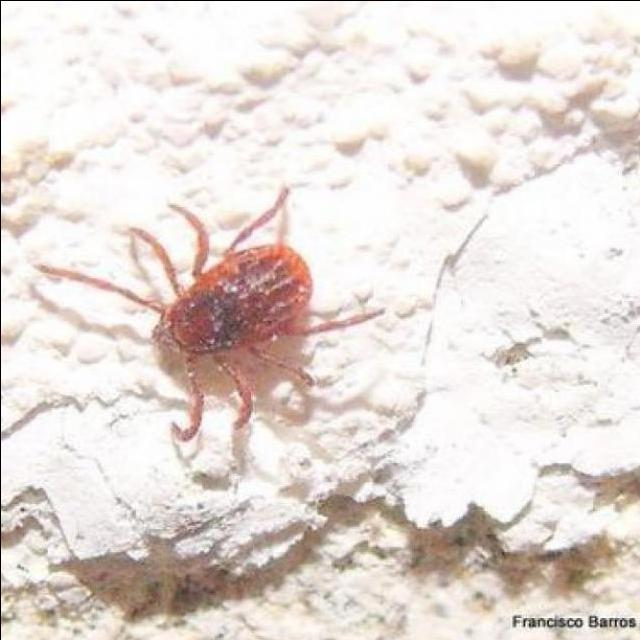Rhipicephalus Sanguineus-F: (32, 186, 378, 443)
